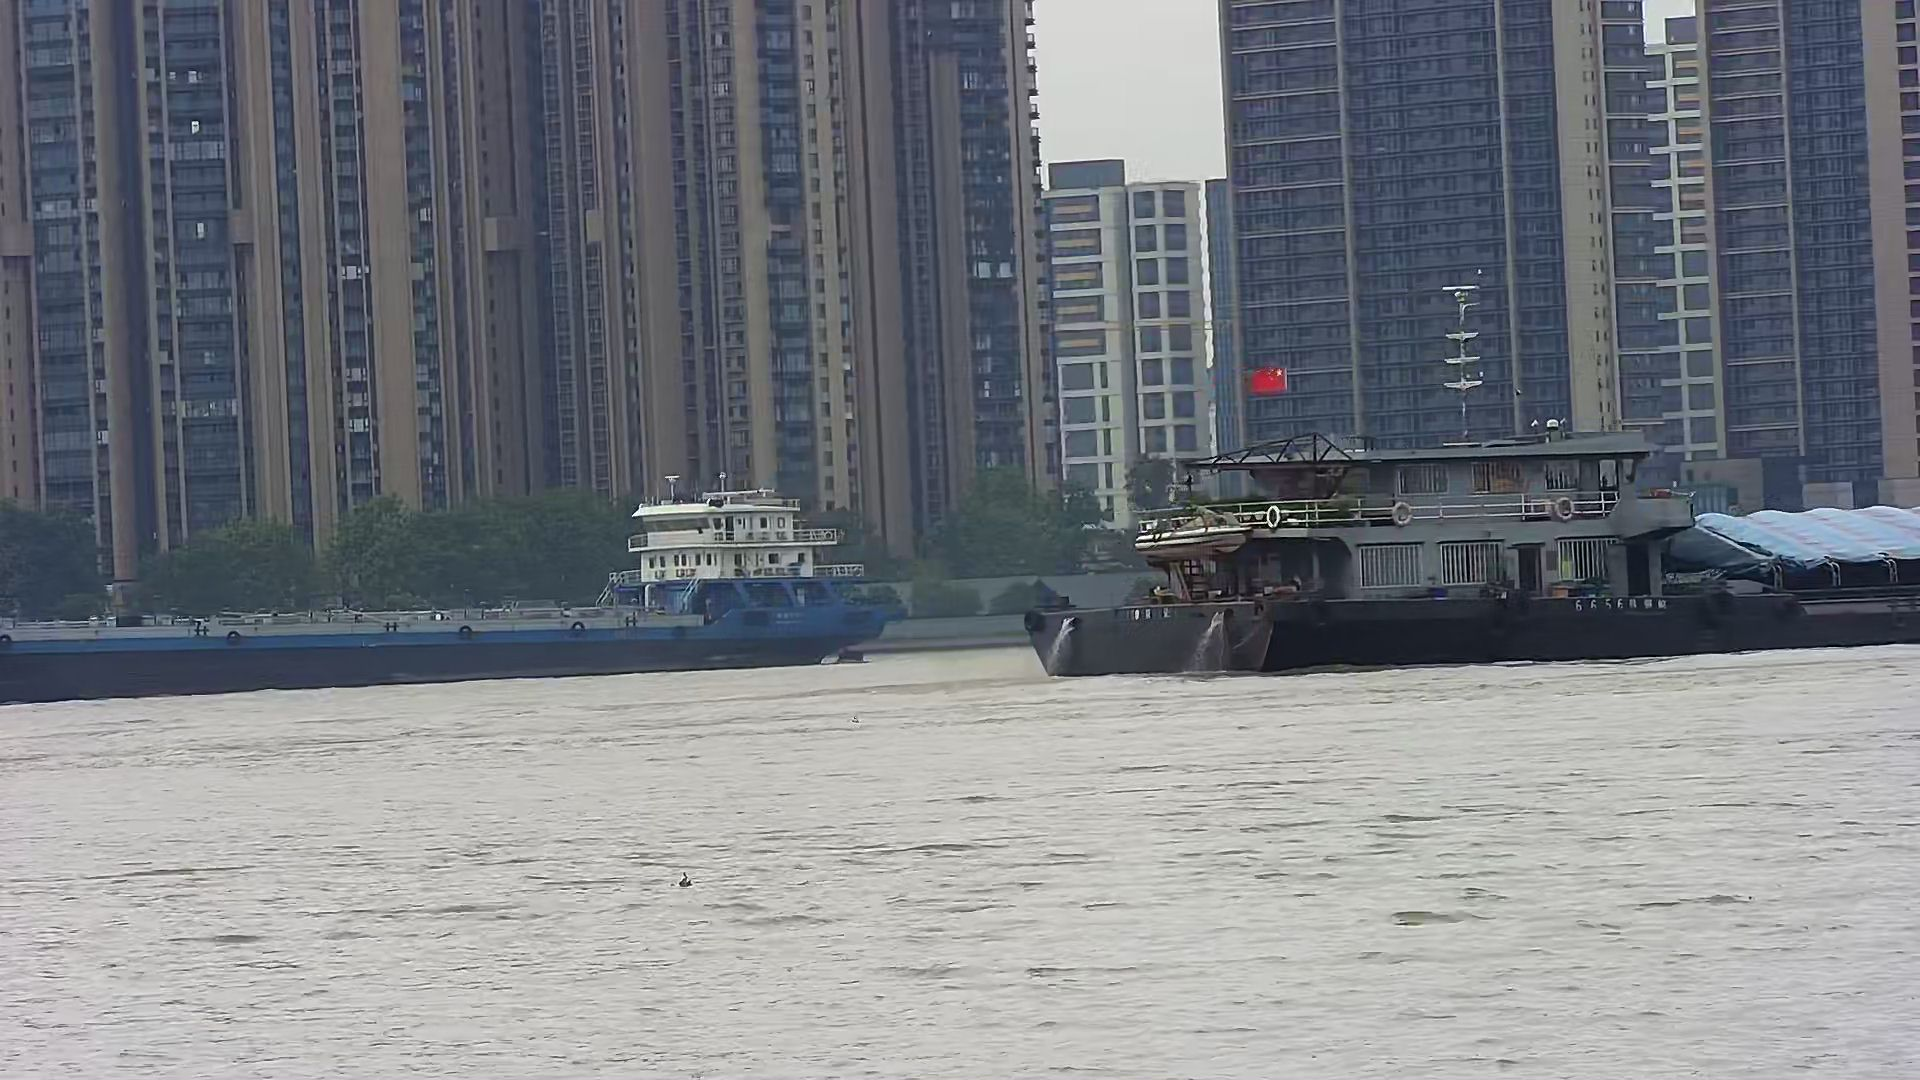ship: (1000, 262, 1920, 687), (9, 462, 884, 705)
